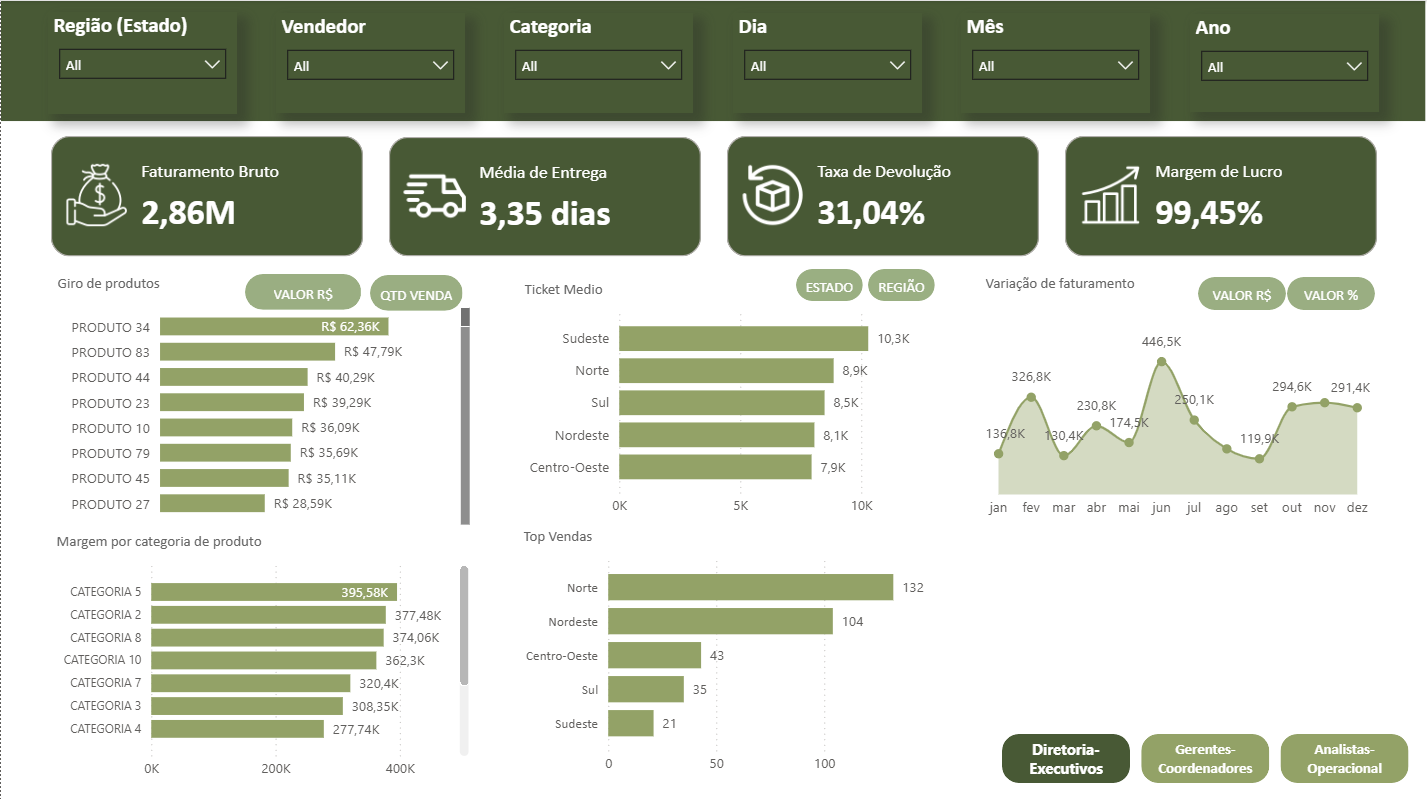

The page's visual inventory and layout, read from the dashboard file:
{"tool":"powerbi","page":{"name":"Diretoria-Executivos","canvas":[1280,720],"ordinal":0},"visuals":[{"type":"shape","title":"Painel Grande","box":[0,1,1278.7,107.8],"z":0,"group":"g8"},{"type":"slicer","title":"Mês","fields":{"Values":["public dim_tempo.nome_mes"]},"box":[861.7,11.5,170.3,90.5],"z":0,"group":"g1"},{"type":"cardVisual","title":"Cartão - Faturamento Bruto","fields":{"Data":["medidas.Faturamento Bruto"]},"box":[45,121.8,280,108.6],"z":0,"group":"g7"},{"type":"areaChart","title":"Variação de faturamento","fields":{"Y":["medidas.Faturamento Bruto"],"Category":["public dim_tempo.nome_mes"]},"box":[878.6,245.7,355.4,227.9],"z":0,"group":"g4"},{"type":"slicer","title":"Ano","fields":{"Values":["public dim_tempo.ano"]},"box":[1066.7,12.6,170,88.3],"z":1000,"group":"g1"},{"type":"cardVisual","title":"Cartão - Média de Entrega","fields":{"Data":["medidas.Tempo Médio de Entrega"]},"box":[348.4,122.3,280,107.5],"z":1000,"group":"g7"},{"type":"clusteredBarChart","title":"Top Vendas","fields":{"Category":["public dim_clientes.regiao"],"Y":["medidas.Qtd Vendas"]},"box":[463.9,473.2,380,230],"z":1000,"group":"g2"},{"type":"clusteredBarChart","title":"Margem por categoria de produto","fields":{"Category":["public dim_produtos.categoria"],"Y":["medidas.Faturamento Liquido"]},"box":[44.7,477.5,380,230],"z":1000,"group":"g3"},{"type":"actionButton","title":"Botão Por Valor","box":[1074.6,248.5,79,29.7],"z":1500,"group":"g4"},{"type":"group","id":"g1","title":"Filtros","box":[41.9,10.9,1194.8,91.7],"z":2000,"group":"g8"},{"type":"slicer","title":"Dia","fields":{"Values":["public dim_tempo.dia"]},"box":[656.7,11.5,170.3,90.5],"z":2000,"group":"g1"},{"type":"cardVisual","title":"Cartão - Taxa de Devolução","fields":{"Data":["medidas.Taxa de Devolução"]},"box":[651.9,121.7,280,108.8],"z":2000,"group":"g7"},{"type":"actionButton","title":"Botão Por Porcentagem","box":[1154.6,248.5,79,29.7],"z":2000,"group":"g4"},{"type":"clusteredBarChart","title":"Ticket Medio","fields":{"Category":["public dim_clientes.regiao"],"Y":["medidas.Ticket Medio"]},"box":[465.2,251.5,380,220.2],"z":2000,"group":"g5"},{"type":"group","id":"g2","title":"Grupo mais vendas","box":[463.9,473.2,380,230],"z":2000},{"type":"group","id":"g3","title":"Grupo margem","box":[44.7,477.5,380,230],"z":2500},{"type":"slicer","title":"Categoria","fields":{"Values":["public dim_produtos.categoria"]},"box":[451.6,11.5,170.3,90.5],"z":3000,"group":"g1"},{"type":"cardVisual","title":"Cartão  - Margem de lucro","fields":{"Data":["medidas.Margem de lucro"]},"box":[955.3,121.7,280,108.8],"z":3000,"group":"g7"},{"type":"actionButton","title":"Botão Por Estado","box":[714.2,241.7,60,28.7],"z":3000,"group":"g5"},{"type":"clusteredBarChart","title":"Giro de produtos","fields":{"Category":["public dim_produtos.nome"],"Y":["medidas.Valor Vendido"]},"box":[45.8,246.3,380,230],"z":3000,"group":"g6"},{"type":"group","id":"g4","title":"Grupo faturamento","box":[878.6,245.7,355.4,227.9],"z":3750},{"type":"slicer","title":"Região (Estado)","fields":{"Values":["public dim_clientes.estado"]},"box":[41.9,10.9,170,91.7],"z":4000,"group":"g1"},{"type":"actionButton","title":"Botão Por Regiao","box":[778.5,241.7,60,28.7],"z":4000,"group":"g5"},{"type":"actionButton","title":"Botão Por Quantidade","box":[330.9,247.1,83.3,32.2],"z":4000,"group":"g6"},{"type":"slicer","title":"Vendedor","fields":{"Values":["public dim_vendedores.nome"]},"box":[246.6,11.5,170.3,90.5],"z":5000,"group":"g1"},{"type":"actionButton","title":"Botão Por Valor","box":[218.7,246,104.4,32.2],"z":5000,"group":"g6"},{"type":"group","id":"g5","title":"Grupo Ticket Medio","box":[465.2,241.7,380,230],"z":5250},{"type":"group","id":"g6","title":"Grupo Giro","box":[44.7,246,382.2,230.3],"z":5500},{"type":"group","id":"g7","title":"Cartões KPIs","box":[45,121.7,1190,108.3],"z":6000},{"type":"pageNavigator","box":[898.9,658.9,366.7,44.4],"z":6500},{"type":"group","id":"g8","title":"Painel Grande","box":[0,1,1278.7,107.8],"z":8000}]}

Visuals, with their boxes in screenshot pixels (x1, y1, x2, y2), scaled from the page's 1280x720 canvas onto the 1427x799 screenshot:
"Painel Grande" shape: <region>0, 1, 1426, 121</region>
"Mês" slicer: <region>961, 13, 1151, 113</region>
"Cartão - Faturamento Bruto" cardVisual: <region>50, 135, 362, 256</region>
"Variação de faturamento" areaChart: <region>980, 273, 1376, 526</region>
"Ano" slicer: <region>1189, 14, 1379, 112</region>
"Cartão - Média de Entrega" cardVisual: <region>388, 136, 701, 255</region>
"Top Vendas" clusteredBarChart: <region>517, 525, 941, 780</region>
"Margem por categoria de produto" clusteredBarChart: <region>50, 530, 473, 785</region>
"Botão Por Valor" actionButton: <region>1198, 276, 1286, 309</region>
"Filtros" group: <region>47, 12, 1379, 114</region>
"Dia" slicer: <region>732, 13, 922, 113</region>
"Cartão - Taxa de Devolução" cardVisual: <region>727, 135, 1039, 256</region>
"Botão Por Porcentagem" actionButton: <region>1287, 276, 1375, 309</region>
"Ticket Medio" clusteredBarChart: <region>519, 279, 942, 523</region>
"Grupo mais vendas" group: <region>517, 525, 941, 780</region>
"Grupo margem" group: <region>50, 530, 473, 785</region>
"Categoria" slicer: <region>503, 13, 693, 113</region>
"Cartão  - Margem de lucro" cardVisual: <region>1065, 135, 1377, 256</region>
"Botão Por Estado" actionButton: <region>796, 268, 863, 300</region>
"Giro de produtos" clusteredBarChart: <region>51, 273, 475, 529</region>
"Grupo faturamento" group: <region>980, 273, 1376, 526</region>
"Região (Estado)" slicer: <region>47, 12, 236, 114</region>
"Botão Por Regiao" actionButton: <region>868, 268, 935, 300</region>
"Botão Por Quantidade" actionButton: <region>369, 274, 462, 310</region>
"Vendedor" slicer: <region>275, 13, 465, 113</region>
"Botão Por Valor" actionButton: <region>244, 273, 360, 309</region>
"Grupo Ticket Medio" group: <region>519, 268, 942, 523</region>
"Grupo Giro" group: <region>50, 273, 476, 529</region>
"Cartões KPIs" group: <region>50, 135, 1377, 255</region>
pageNavigator: <region>1002, 731, 1411, 780</region>
"Painel Grande" group: <region>0, 1, 1426, 121</region>
